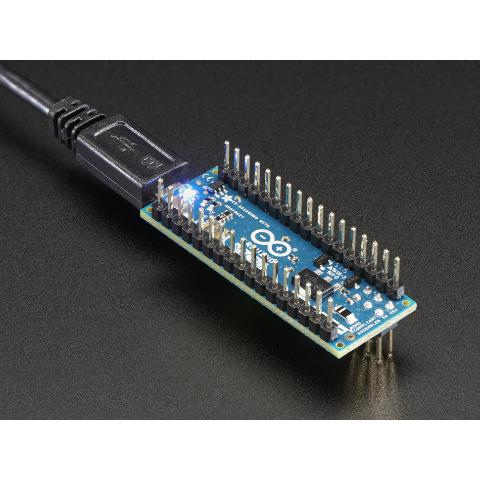Arduino-Micro: (134, 143, 422, 369)
